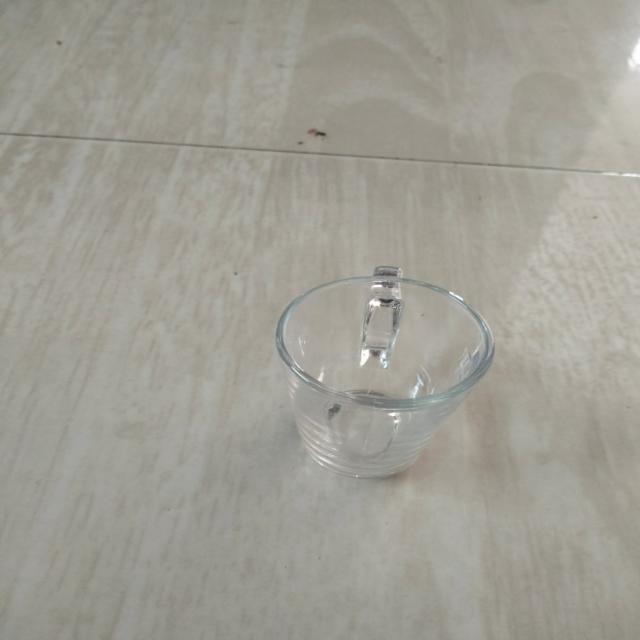glass-VX4N: (274, 258, 495, 480)
